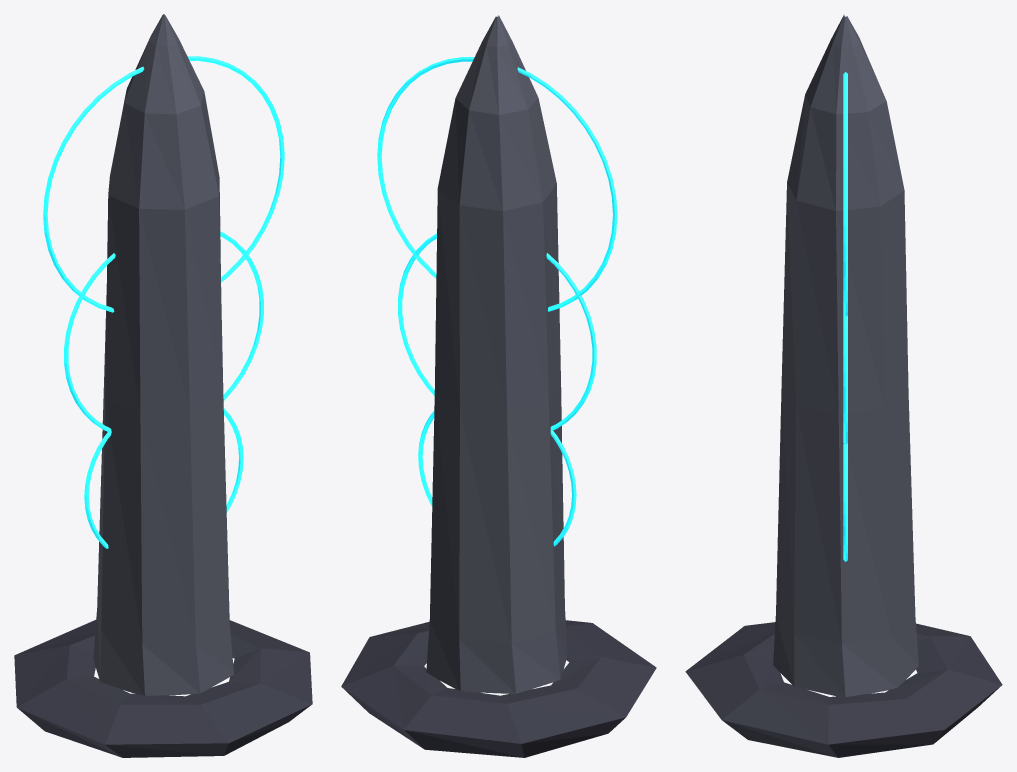
File: monolith.glb
3 views of the same model, side by side, from view 1: azimuth 30°, elevation 25°; view 2: azimuth 150°, elevation 25°; view 3: azimuth 270°, elevation 25° (orthographic).
Visible parts, largest first — view 1: monolith-body, monolith-plinth, monolith-rings; view 2: monolith-body, monolith-plinth, monolith-rings; view 3: monolith-body, monolith-plinth, monolith-rings.
Boxes of the visible parts, box(x1,y1,x2,y2) form: monolith-body: box(93, 14, 233, 695); monolith-plinth: box(14, 620, 312, 757); monolith-rings: box(43, 56, 284, 548); monolith-body: box(426, 15, 567, 693); monolith-plinth: box(341, 620, 656, 757); monolith-rings: box(377, 57, 617, 546); monolith-body: box(773, 14, 918, 697); monolith-plinth: box(685, 622, 1002, 757); monolith-rings: box(843, 72, 847, 561).
Bounding box in the file's own units: 4.55 × 11.14 × 4.55.
